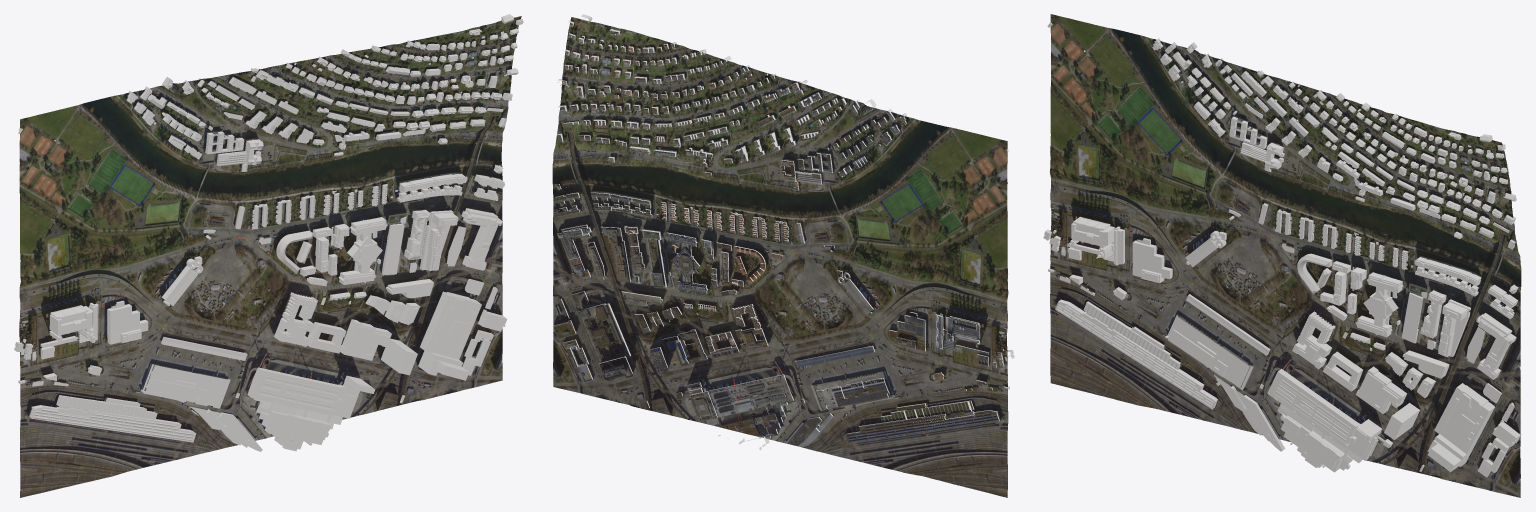
The model's file is wh-plant.glb.
The picture shows the model from 3 angles, left to right: view 1: azimuth 30°, elevation 25°; view 2: azimuth 150°, elevation 25°; view 3: azimuth 330°, elevation 25°; orthographic projection. The views are drawn at different scales.
Visible parts, largest first — view 1: RealTerrain, CityGML-Buildings; view 2: RealTerrain, CityGML-Buildings; view 3: RealTerrain, CityGML-Buildings.
Part boxes in pixels (x1,y1,x2,y2): RealTerrain: (19,16,521,497); CityGML-Buildings: (14,14,523,451); RealTerrain: (552,17,1008,497); CityGML-Buildings: (553,14,1014,450); RealTerrain: (1050,14,1521,497); CityGML-Buildings: (1043,23,1521,477).
Size of the model in its own units: 1224 by 962 by 105.
Materials: 2 (1 with a texture image).
